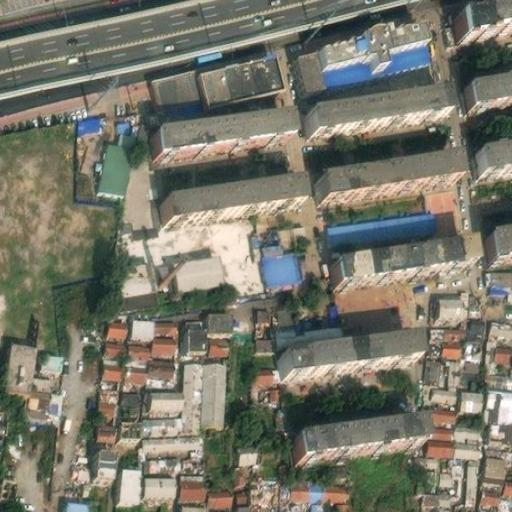building: (150, 116, 290, 160), (304, 92, 443, 133), (315, 157, 454, 198), (275, 332, 412, 372), (161, 185, 299, 223), (331, 243, 453, 284), (312, 24, 421, 68), (316, 42, 425, 86), (293, 421, 424, 457), (200, 48, 283, 98), (327, 207, 436, 239), (154, 64, 209, 113), (99, 136, 135, 189), (178, 356, 203, 431), (5, 336, 38, 387), (456, 0, 512, 29), (464, 73, 512, 106), (202, 357, 225, 421), (177, 250, 224, 281), (259, 247, 298, 279), (476, 137, 512, 170), (98, 375, 120, 427), (294, 48, 320, 91), (145, 429, 200, 449), (251, 473, 279, 510), (484, 335, 512, 367), (488, 226, 512, 259), (147, 469, 180, 492), (141, 411, 178, 430), (466, 451, 479, 503), (185, 314, 206, 346), (121, 462, 142, 494), (179, 475, 208, 498), (145, 450, 176, 471), (484, 365, 512, 387), (150, 385, 179, 406), (424, 353, 446, 380), (444, 349, 462, 381), (151, 328, 177, 350), (487, 315, 512, 337), (128, 312, 154, 333), (118, 386, 139, 412), (454, 419, 482, 438), (484, 386, 501, 417), (206, 306, 231, 327), (477, 484, 502, 504), (98, 442, 117, 468), (252, 362, 279, 380), (461, 384, 483, 406), (147, 354, 173, 372), (430, 432, 456, 450), (107, 314, 129, 335), (485, 450, 507, 471), (41, 347, 63, 368), (439, 293, 462, 313), (486, 434, 512, 451), (180, 497, 209, 512), (205, 333, 229, 351), (498, 387, 512, 417), (461, 350, 481, 370), (288, 478, 310, 496), (105, 333, 128, 350), (322, 480, 348, 495), (430, 404, 456, 419), (488, 264, 512, 280), (101, 357, 121, 376), (466, 314, 484, 334), (78, 112, 102, 127), (153, 314, 175, 330), (126, 360, 148, 376), (432, 380, 454, 396), (146, 370, 173, 383), (127, 338, 152, 352), (456, 437, 481, 451), (122, 414, 142, 431), (483, 469, 503, 486), (209, 489, 235, 502), (236, 499, 262, 512), (65, 497, 86, 512), (465, 333, 482, 351), (278, 303, 297, 319), (441, 322, 462, 336), (441, 336, 462, 350), (487, 416, 502, 435), (238, 446, 258, 460), (431, 421, 454, 433), (257, 303, 274, 318), (255, 333, 273, 347), (428, 322, 442, 340), (123, 350, 145, 361), (278, 479, 289, 500), (310, 476, 322, 495), (148, 405, 179, 412), (421, 487, 436, 501), (501, 486, 512, 505), (501, 417, 512, 436), (440, 465, 453, 481), (452, 456, 465, 472), (97, 426, 117, 436), (436, 487, 449, 501), (102, 349, 121, 358), (478, 503, 496, 512), (313, 495, 323, 511), (491, 280, 509, 288), (459, 502, 473, 512), (436, 501, 448, 512), (495, 504, 511, 512), (0, 414, 5, 431), (0, 402, 6, 415), (509, 280, 512, 297), (509, 361, 512, 373)
